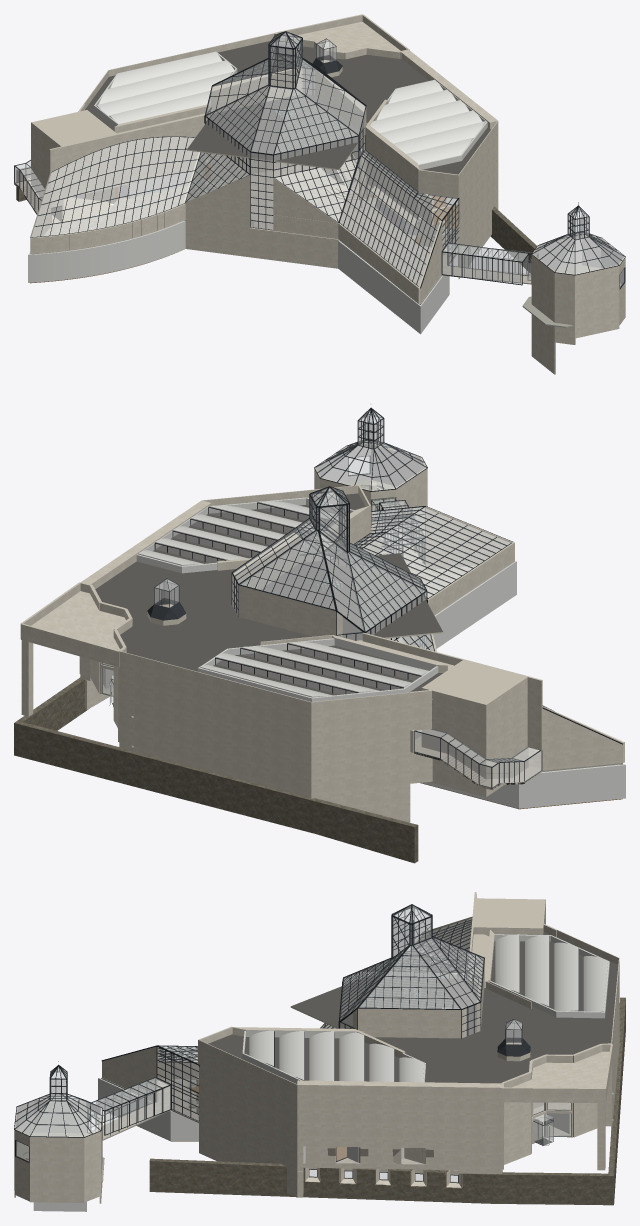
The model's file is building.glb.
3 views of the same model, one above another, from view 1: azimuth 30°, elevation 25°; view 2: azimuth 150°, elevation 25°; view 3: azimuth 270°, elevation 25° (orthographic). The views are drawn at different scales.
Parts seen in each view (by area): view 1: ENT-01-L00_GLASS, R04_RECESS_JAMB_FOOT, P05_FRONT_0, P05_MAIN_ROOF_DECK, R24_SHELL_E_00, P10_MAIN_ROOF_FACE_0_GRID_0001, P05_FLOOR_L00_GH, R99_W_GROUND_GALLERY_ENTRY_WALL, R37_GH_EAST_PORTAL_METAL_HEAD, R17_PORTAL_HEAD, R42_SHADE_00_00, R111_W_GALLERY_APPROACH_SOFFIT (+12 smaller); view 2: P05_FRONT_0, ENT-01-L00_GLASS, P05_MAIN_ROOF_DECK, R04_RECESS_JAMB_FOOT, R35_WALL_51946353_00_0, R99_W_GROUND_GALLERY_ENTRY_WALL, P10_MAIN_ROOF_FACE_0_GRID_0001, R24_SHELL_E_00, R37_GH_EAST_PORTAL_METAL_HEAD, R42_SHADE_00_00, P07_CANOPY_SLAB_ENVELOPE, R111_W_GALLERY_APPROACH_SOFFIT (+5 smaller); view 3: R04_RECESS_JAMB_FOOT, P05_FRONT_0, ENT-01-L00_GLASS, P05_MAIN_ROOF_DECK, R35_WALL_51946353_00_0, R24_SHELL_E_00, R99_W_GROUND_GALLERY_ENTRY_WALL, P10_MAIN_ROOF_FACE_0_GRID_0001, R37_GH_EAST_PORTAL_METAL_HEAD, P07_CANOPY_SLAB_ENVELOPE, R42_SHADE_00_00, R111_W_GALLERY_APPROACH_SOFFIT (+5 smaller).
Boxes of the visible parts, bbox=[...] form: ENT-01-L00_GLASS: bbox=[14, 32, 624, 287]; R04_RECESS_JAMB_FOOT: bbox=[31, 50, 625, 374]; P05_FRONT_0: bbox=[30, 32, 625, 321]; P05_MAIN_ROOF_DECK: bbox=[85, 41, 498, 181]; R24_SHELL_E_00: bbox=[96, 51, 486, 243]; P10_MAIN_ROOF_FACE_0_GRID_0001: bbox=[30, 31, 625, 284]; P05_FLOOR_L00_GH: bbox=[30, 165, 573, 327]; R99_W_GROUND_GALLERY_ENTRY_WALL: bbox=[28, 51, 623, 334]; R37_GH_EAST_PORTAL_METAL_HEAD: bbox=[31, 33, 601, 288]; R17_PORTAL_HEAD: bbox=[36, 68, 538, 282]; R42_SHADE_00_00: bbox=[187, 55, 355, 200]; R111_W_GALLERY_APPROACH_SOFFIT: bbox=[31, 111, 418, 227]; P05_FRONT_0: bbox=[21, 485, 624, 822]; ENT-01-L00_GLASS: bbox=[102, 410, 541, 787]; P05_MAIN_ROOF_DECK: bbox=[95, 493, 443, 711]; R04_RECESS_JAMB_FOOT: bbox=[80, 468, 542, 795]; R35_WALL_51946353_00_0: bbox=[14, 677, 418, 863]; R99_W_GROUND_GALLERY_ENTRY_WALL: bbox=[103, 444, 625, 808]; P10_MAIN_ROOF_FACE_0_GRID_0001: bbox=[154, 408, 622, 744]; R24_SHELL_E_00: bbox=[138, 501, 619, 772]; R37_GH_EAST_PORTAL_METAL_HEAD: bbox=[155, 408, 512, 692]; R42_SHADE_00_00: bbox=[241, 525, 430, 648]; P07_CANOPY_SLAB_ENVELOPE: bbox=[20, 582, 125, 667]; R111_W_GALLERY_APPROACH_SOFFIT: bbox=[357, 640, 527, 743]; R04_RECESS_JAMB_FOOT: bbox=[14, 894, 556, 1203]; P05_FRONT_0: bbox=[14, 916, 619, 1201]; ENT-01-L00_GLASS: bbox=[15, 905, 570, 1182]; P05_MAIN_ROOF_DECK: bbox=[199, 932, 619, 1095]; R35_WALL_51946353_00_0: bbox=[149, 997, 625, 1205]; R24_SHELL_E_00: bbox=[249, 934, 607, 1082]; R99_W_GROUND_GALLERY_ENTRY_WALL: bbox=[16, 934, 609, 1211]; P10_MAIN_ROOF_FACE_0_GRID_0001: bbox=[14, 904, 484, 1158]; R37_GH_EAST_PORTAL_METAL_HEAD: bbox=[37, 906, 578, 1114]; P07_CANOPY_SLAB_ENVELOPE: bbox=[502, 1044, 612, 1102]; R42_SHADE_00_00: bbox=[342, 945, 483, 1015]; R111_W_GALLERY_APPROACH_SOFFIT: bbox=[469, 899, 545, 988].
Size of the model in its own units: 81.08 by 43.8 by 94.58.
Materials: 66 (17 with a texture image).
